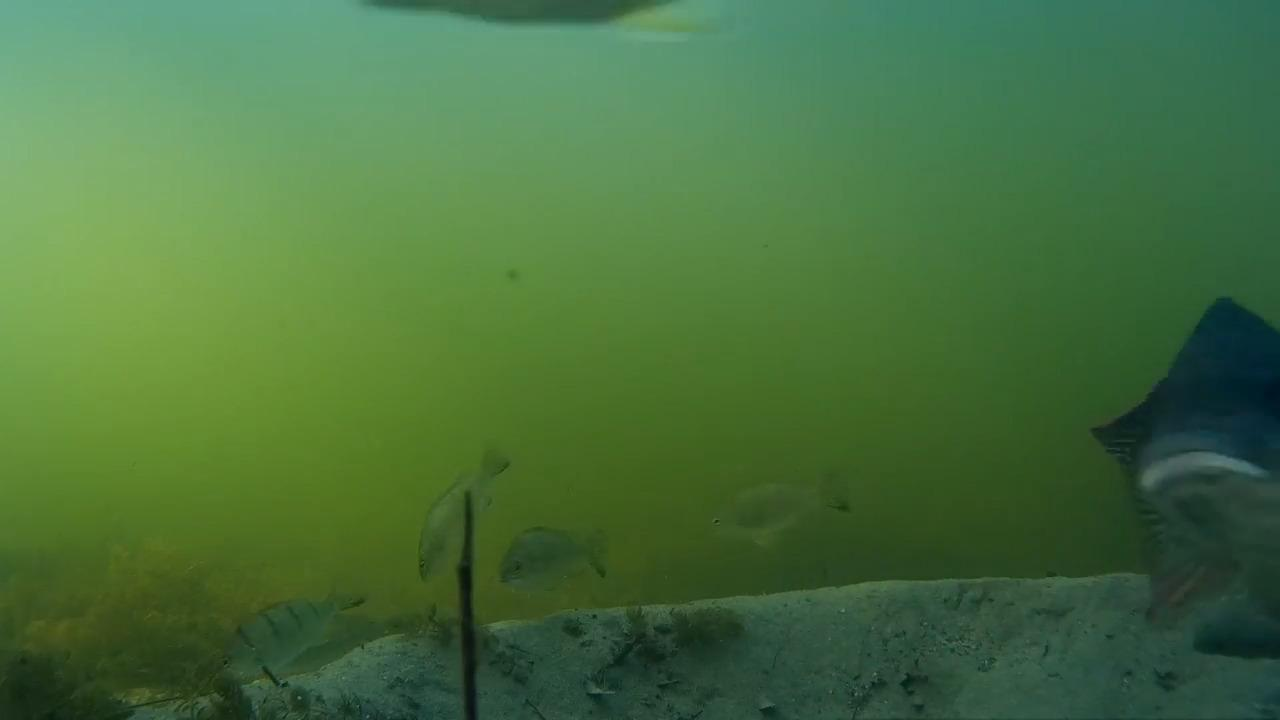Tilapia: (1084, 293, 1280, 531), (226, 586, 401, 693), (393, 440, 514, 586), (482, 504, 623, 618), (700, 469, 868, 543)
